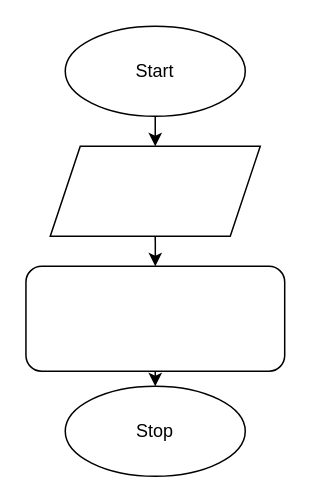
This 312x503 diagram has some shape labels left out. The shapes that lost their labels are listed below. From the top down, each one's box as (x1, y1, x2, y2) in pixels, then its label:
(49, 145, 260, 236): get pushedNum
(24, 265, 285, 371): stackNum.push(pushedNum)
